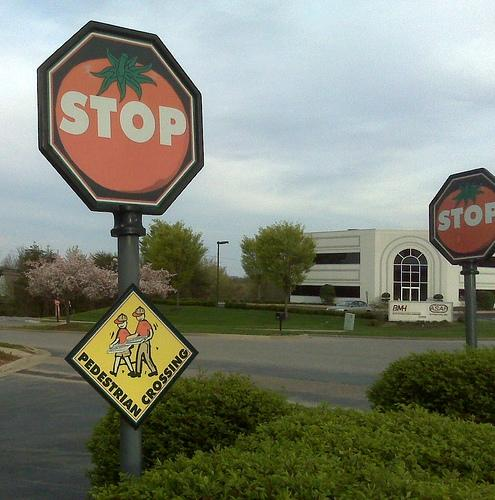tomato: (57, 48, 189, 194), (437, 182, 495, 254)
